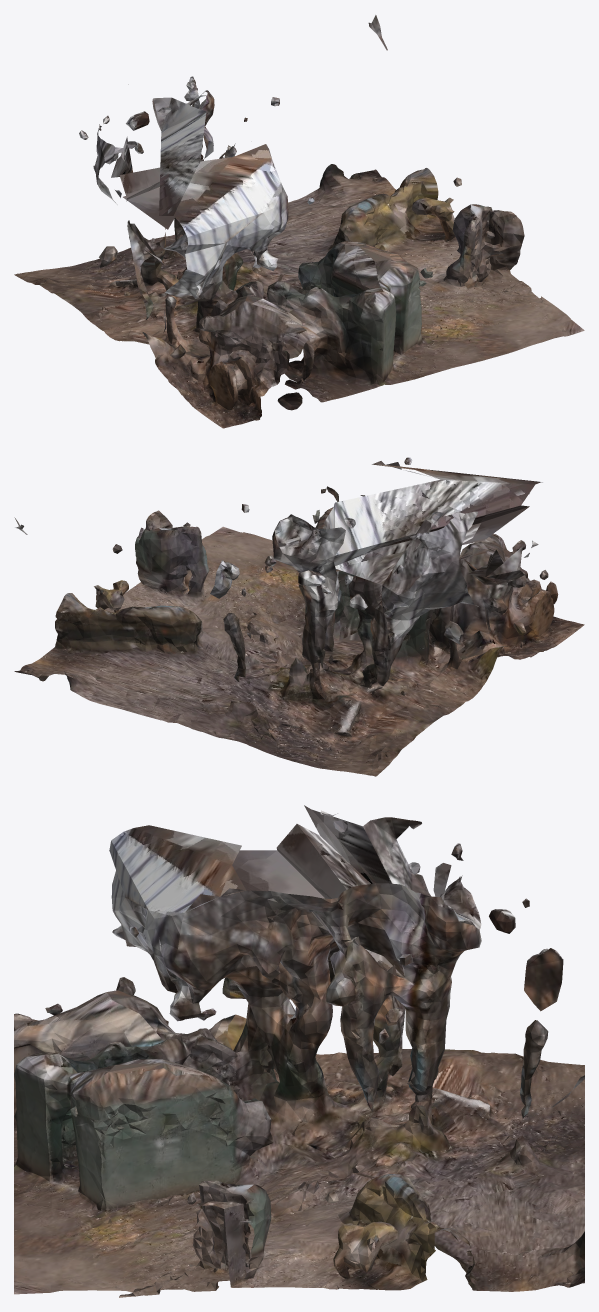
The picture shows the model from 3 angles, top to bottom: view 1: azimuth 30°, elevation 25°; view 2: azimuth 150°, elevation 25°; view 3: azimuth 270°, elevation 25°; orthographic projection. The views are drawn at different scales.
Size of the model in its own units: 10.44 by 5.41 by 10.44.
Materials: 7 (7 with a texture image).
